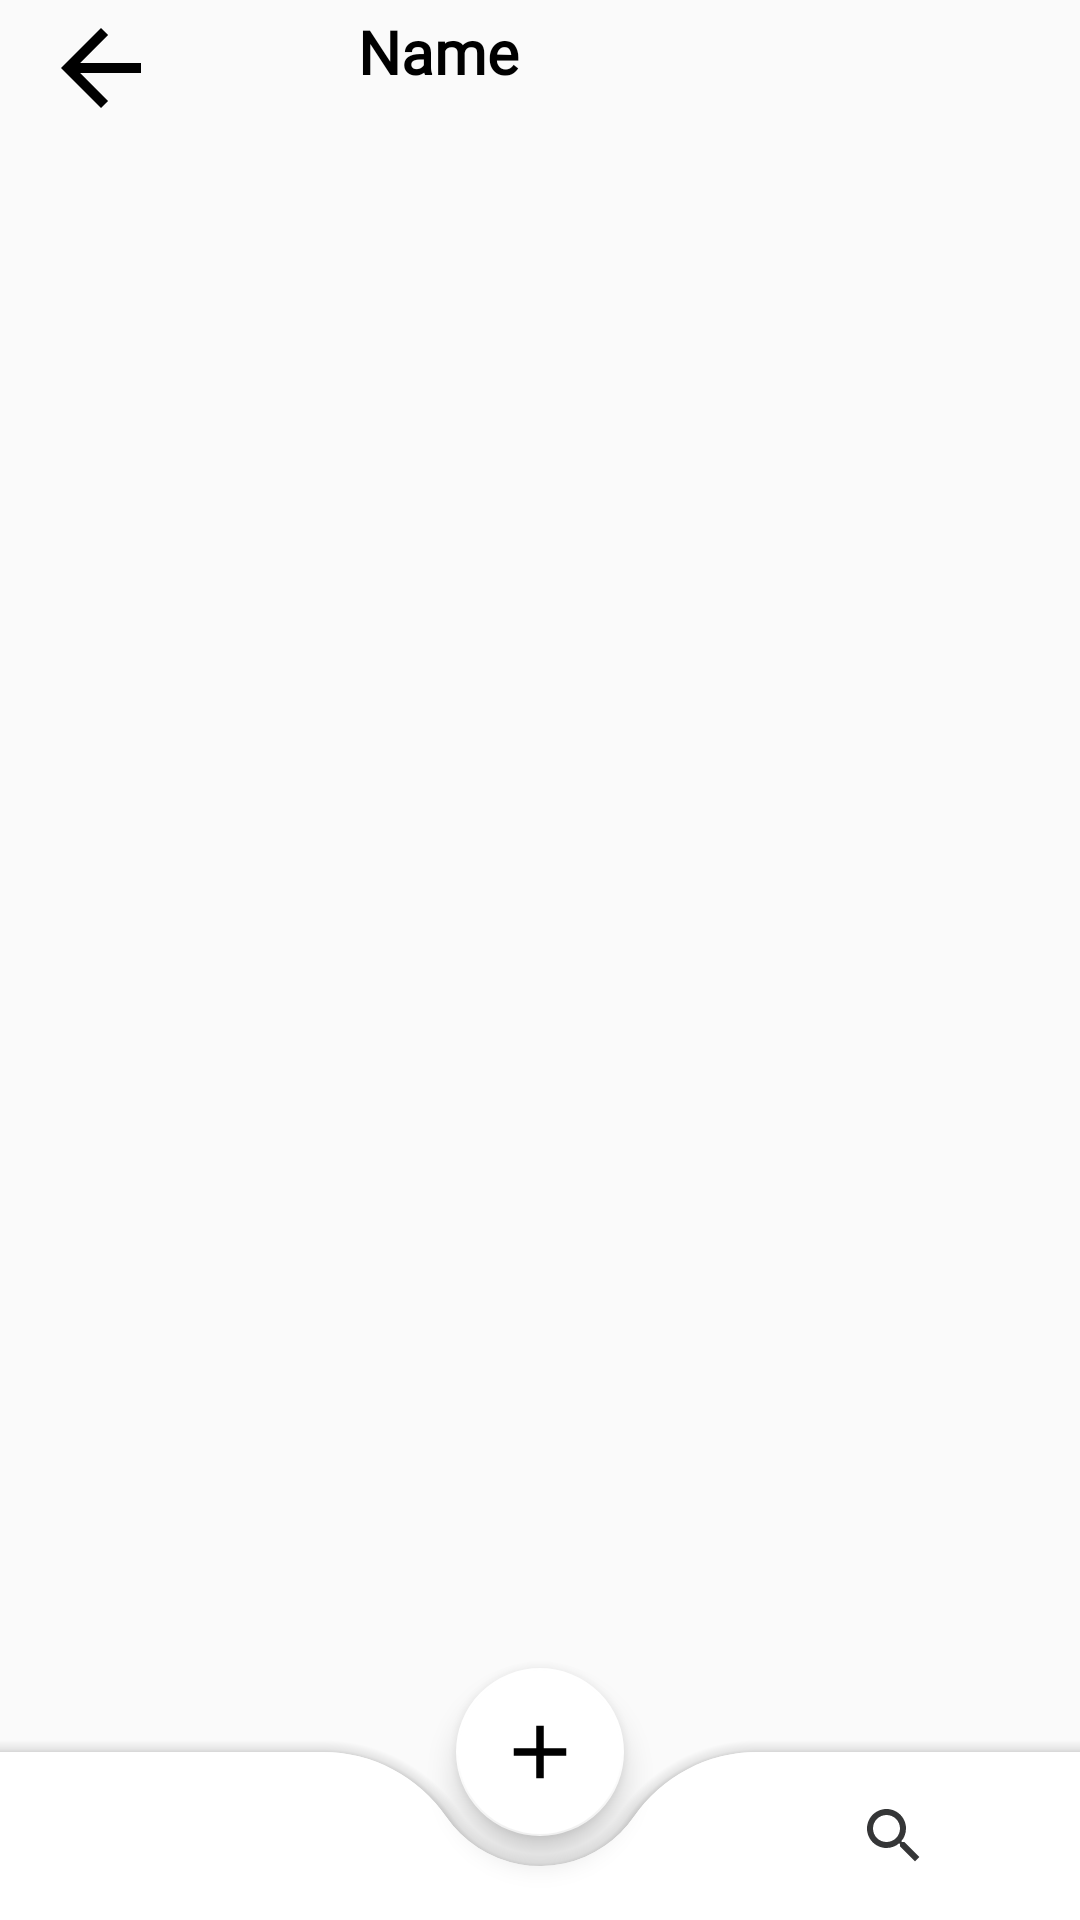

Where to tap for icons on this 1080 x 1920 app screen, as (x=x, y=y):
add: (x=540, y=1780)
arrow back: (x=101, y=68)
search: (x=893, y=1835)
